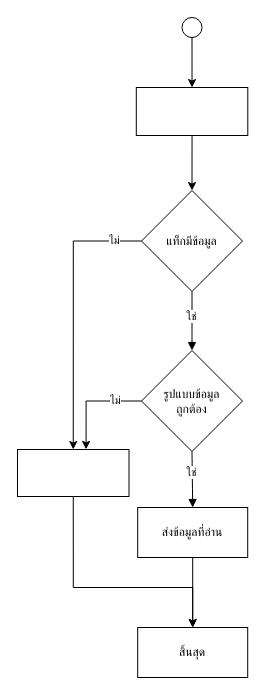
The diagram is 266 pixels wide and 695 high, and some of its shapes have lost their labels. The shapes that lost their labels are listed below. From the top down, each one's centre as x and y in pixels, then its label:
At point (191, 111): "รอรับสัญญาณ NFC".
At point (72, 472): "แสดงข้อผิดพลาด".
